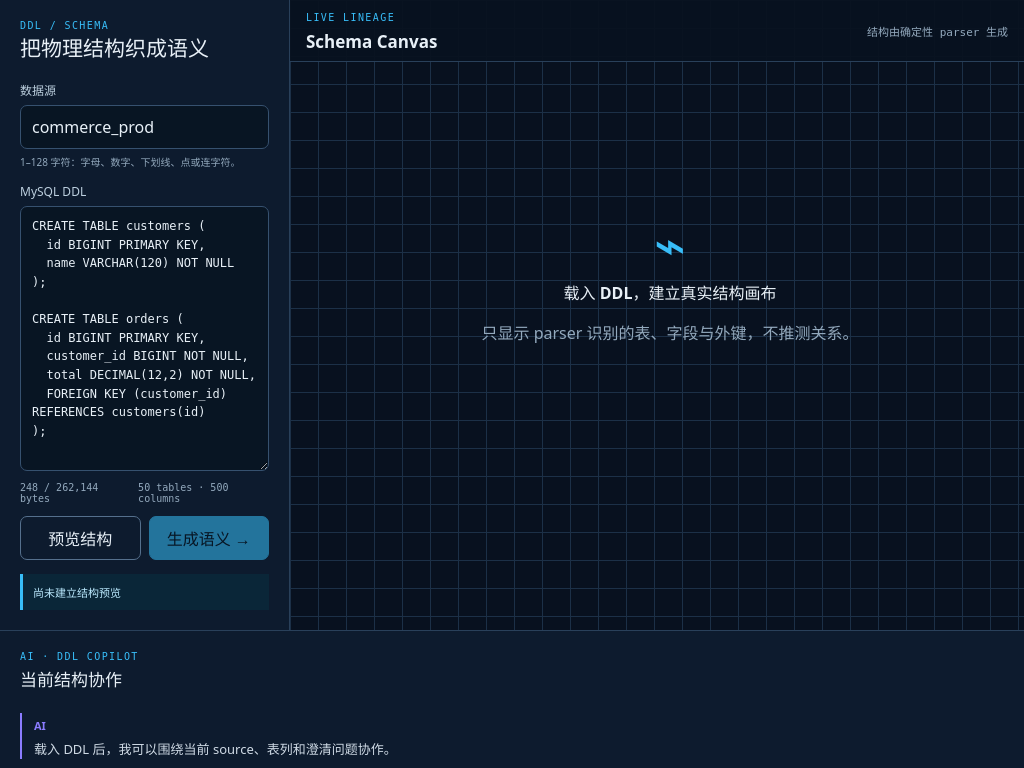
workbench chat › accepts a task submission after StrictMode replays effects
Click the button "预览结构" at (80, 538), box top-left (20, 516), bottom-right (140, 560)
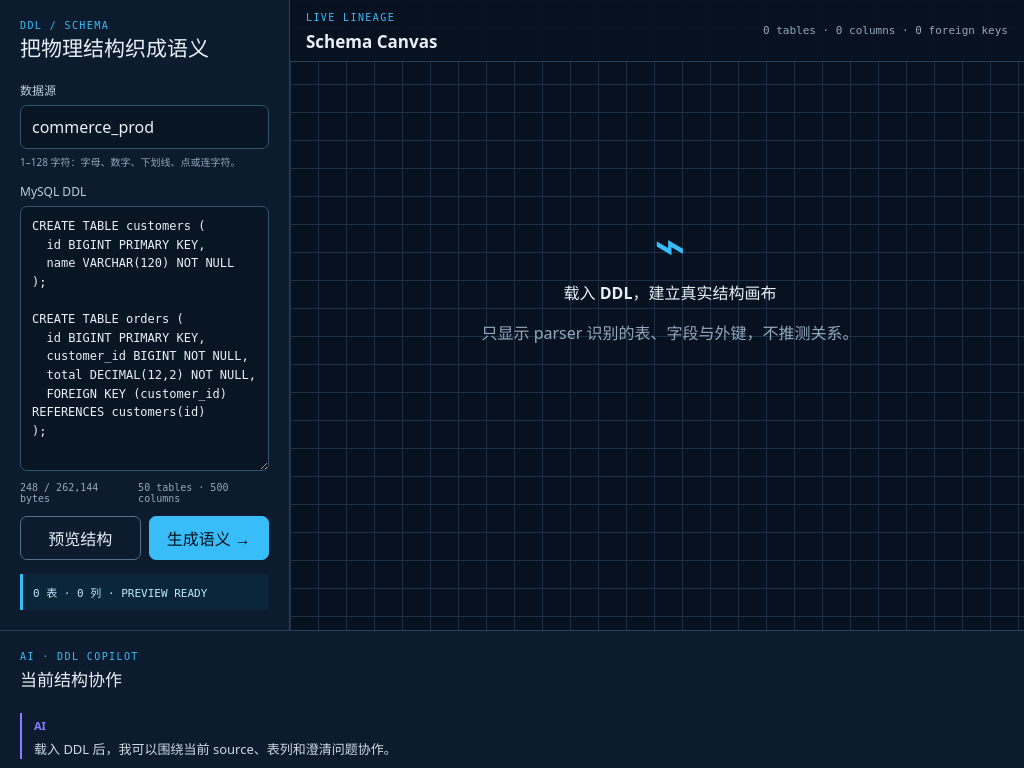
Now the button "生成语义 →" is enabled
Click the button "生成语义 →" at (209, 538), box top-left (148, 516), bottom-right (269, 560)
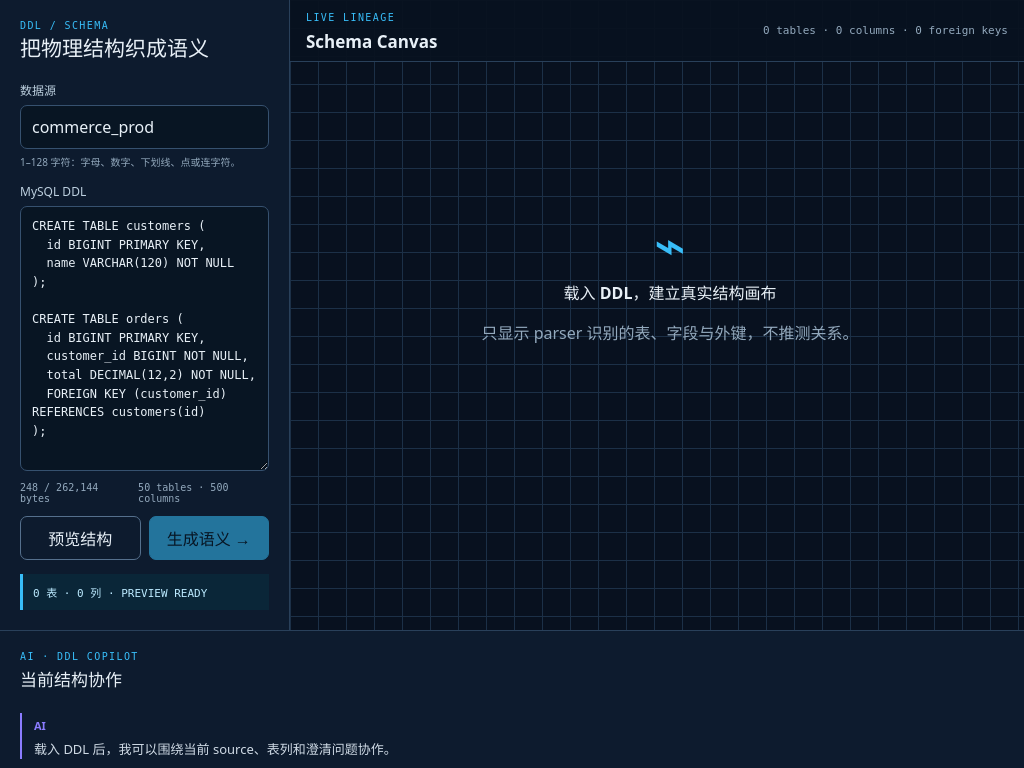
Now the button "生成语义 →" is disabled, box top-left (148, 516), bottom-right (269, 560)
